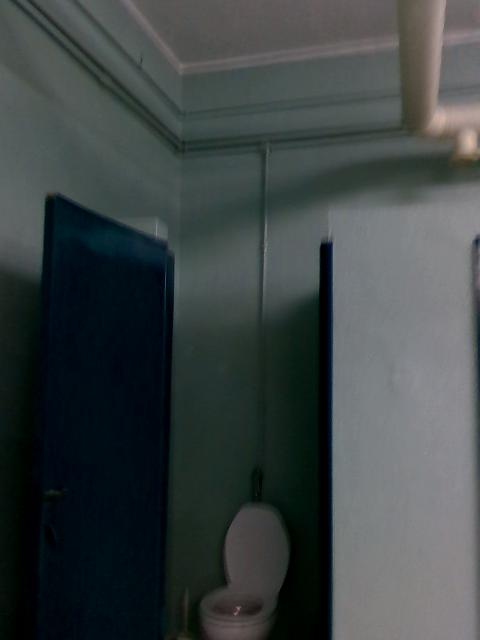open_door: (151, 211, 335, 638)
